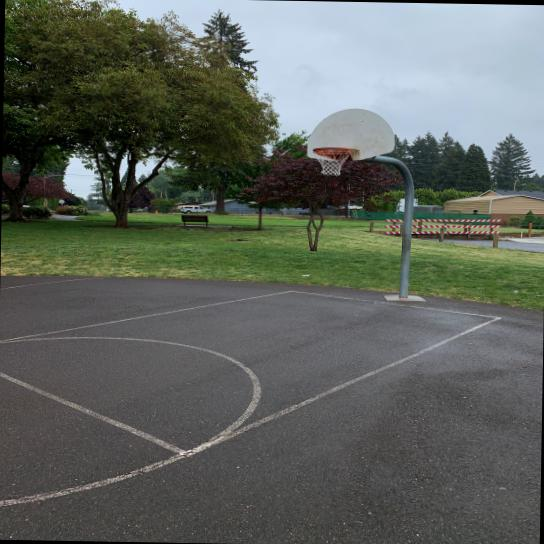basketball-hoop: (311, 146, 352, 176)
